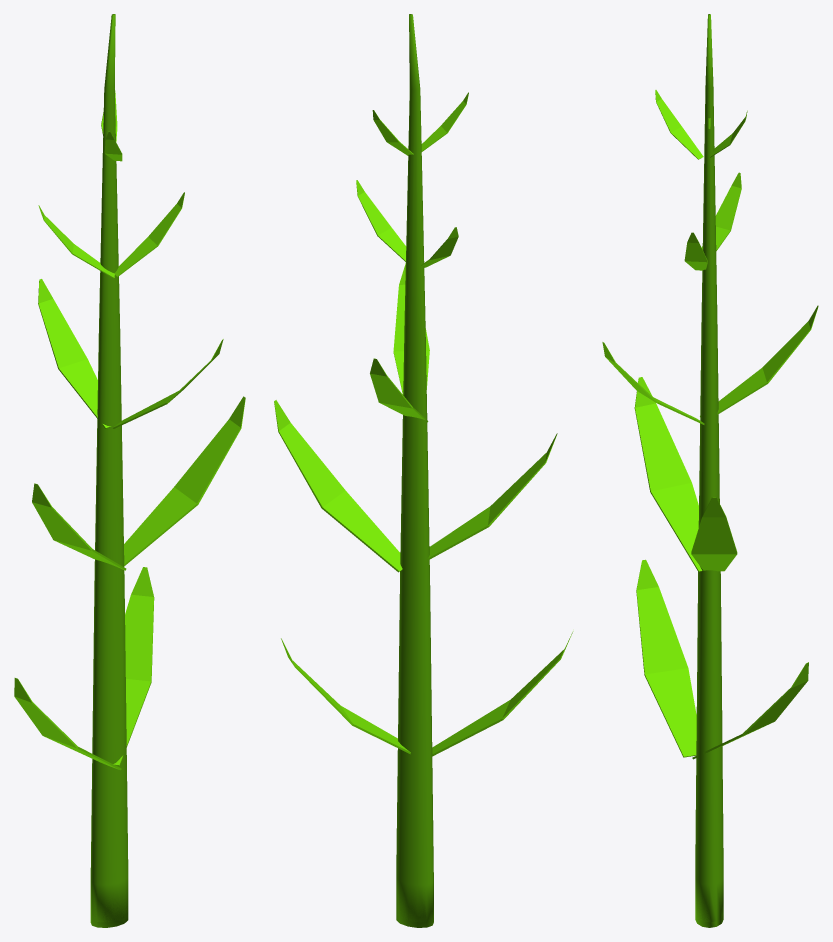
The model's file is Corn2.fbx.
3 views of the same model, side by side, from view 1: azimuth 30°, elevation 25°; view 2: azimuth 150°, elevation 25°; view 3: azimuth 270°, elevation 25° (orthographic).
Parts seen in each view (by area): view 1: Cube.048; view 2: Cube.048; view 3: Cube.048.
Part boxes in pixels (left/top/right/bottom): Cube.048: left=14, top=14, right=245, bottom=927; Cube.048: left=274, top=14, right=573, bottom=927; Cube.048: left=602, top=14, right=818, bottom=927.
Bounding box in the file's own units: 7.58 × 24.85 × 5.37.
